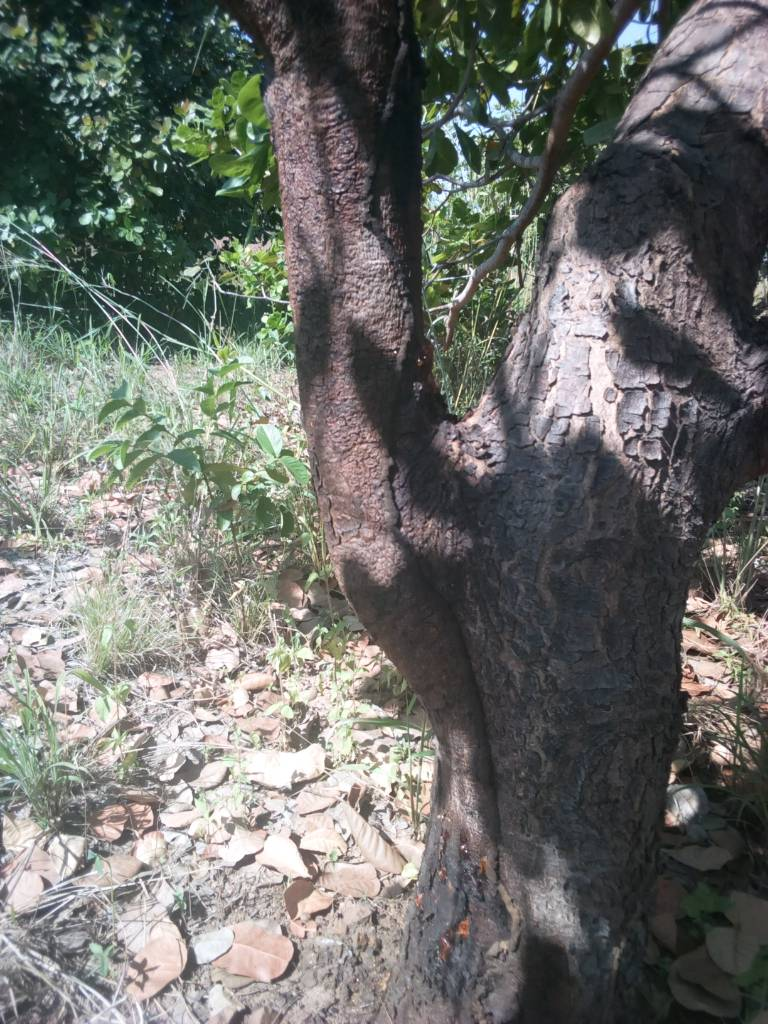Termites: (390, 457, 521, 875), (358, 13, 422, 442)
